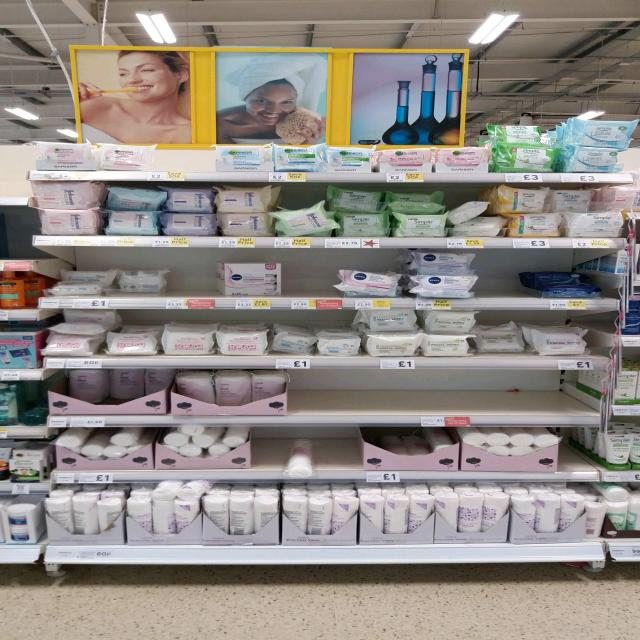void: (480, 250, 531, 310), (168, 250, 219, 310), (283, 250, 332, 309), (152, 144, 218, 181), (386, 368, 427, 426), (428, 368, 467, 425), (345, 369, 385, 423), (508, 371, 548, 424), (549, 370, 587, 425), (471, 371, 506, 428), (312, 370, 348, 424), (323, 430, 358, 481), (562, 427, 594, 481), (253, 426, 284, 479), (287, 369, 316, 424)
